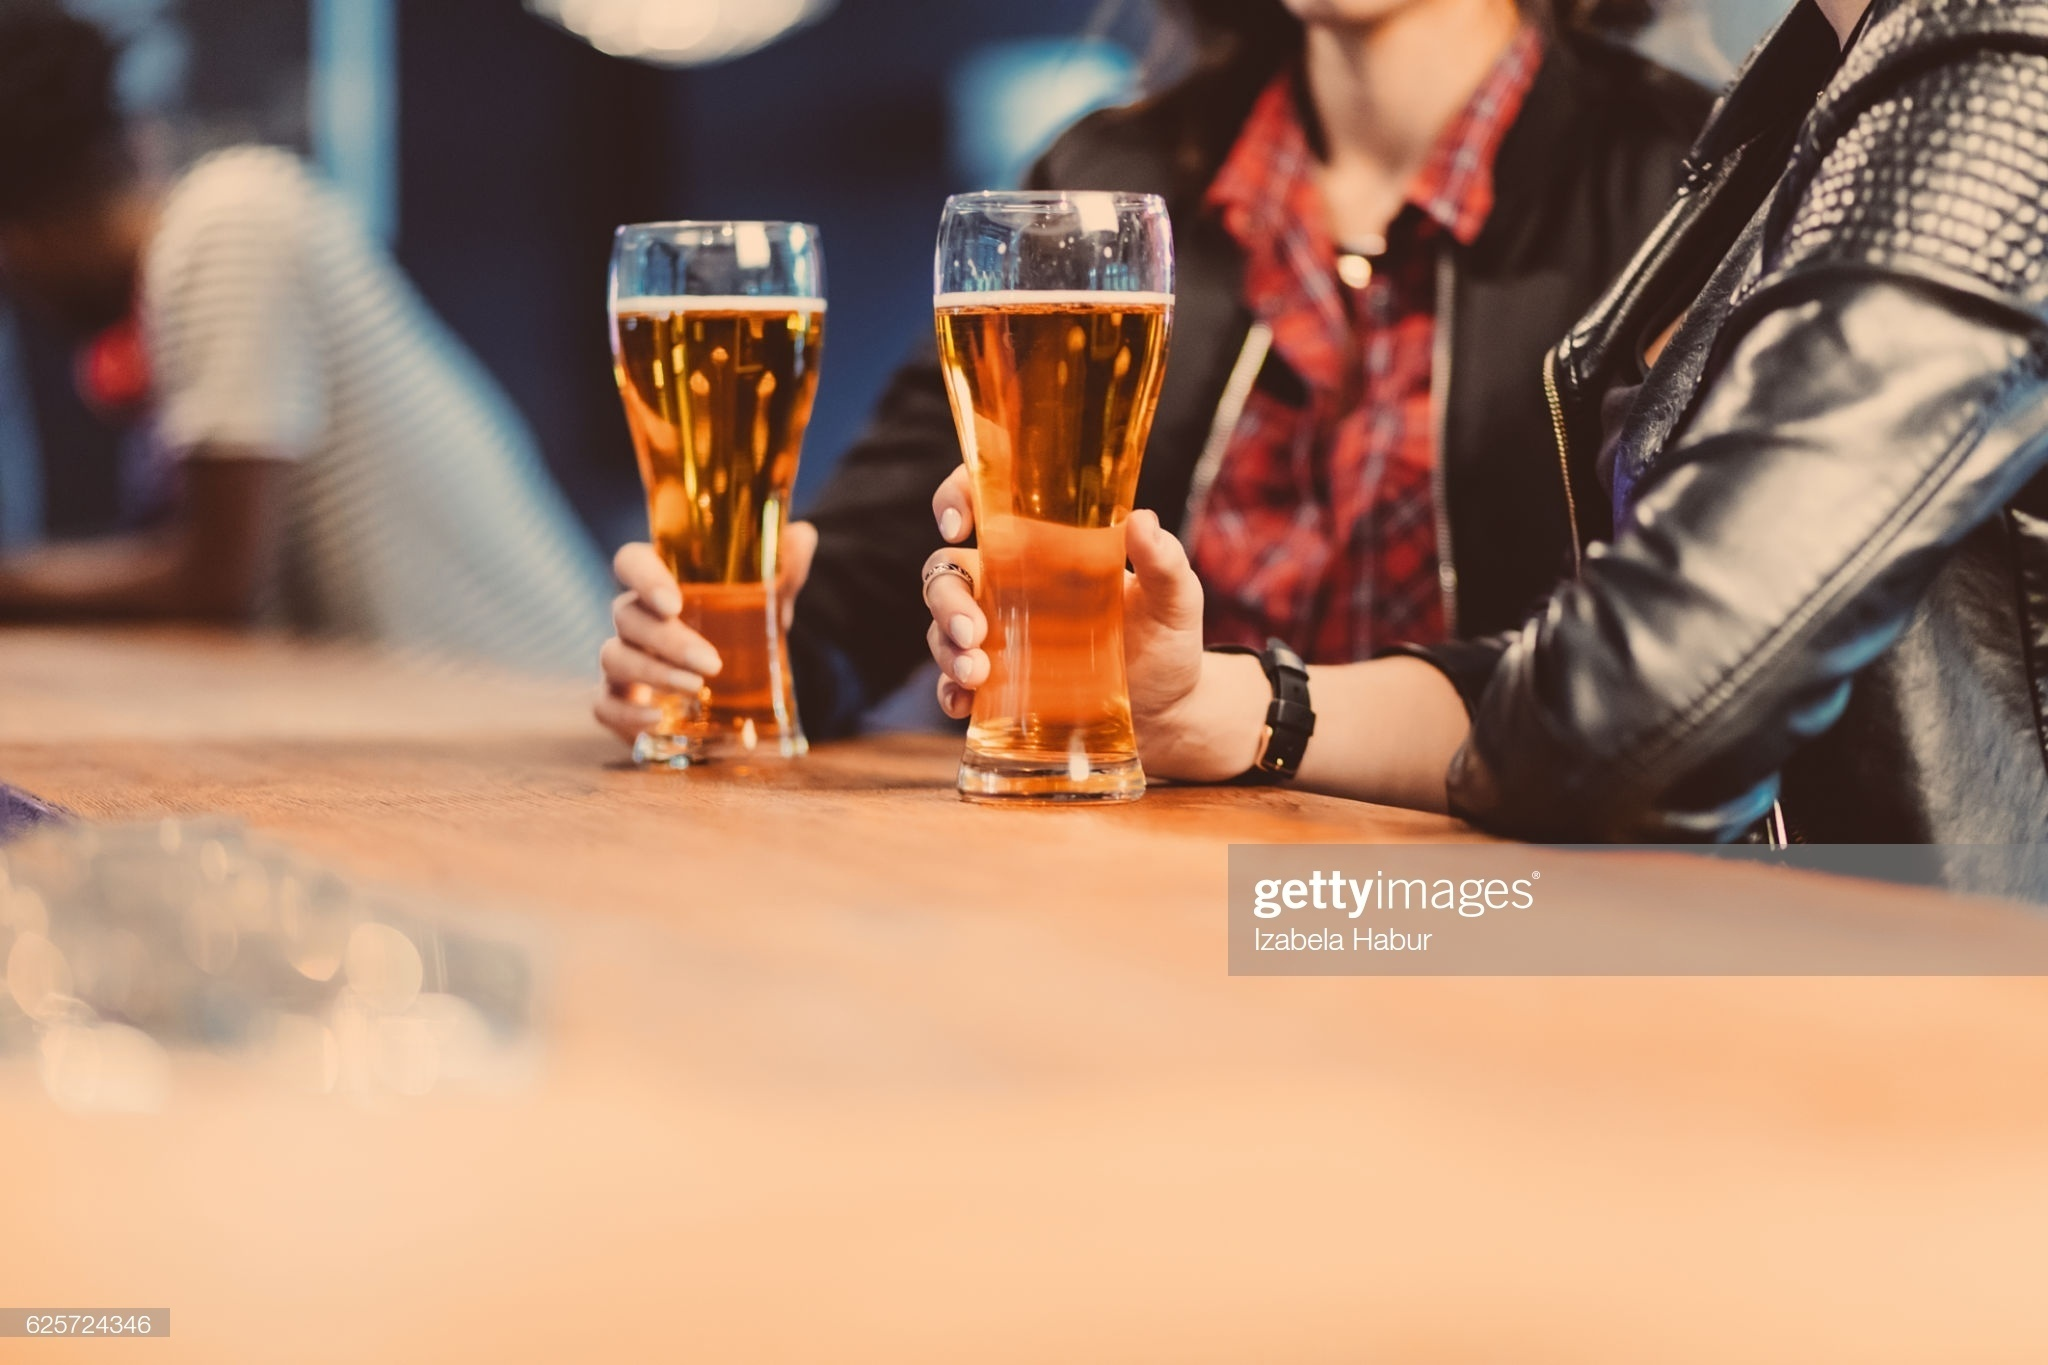whiskey: (958, 174, 1180, 794), (606, 198, 828, 818)
